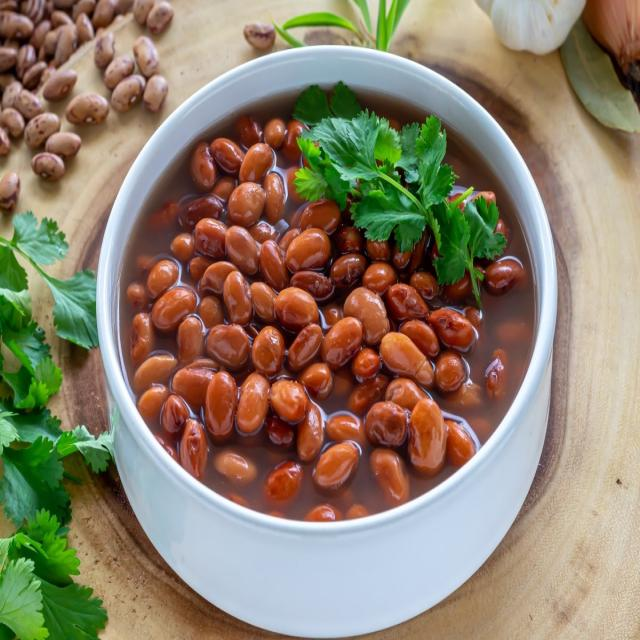frijoles: (109, 91, 537, 524)
